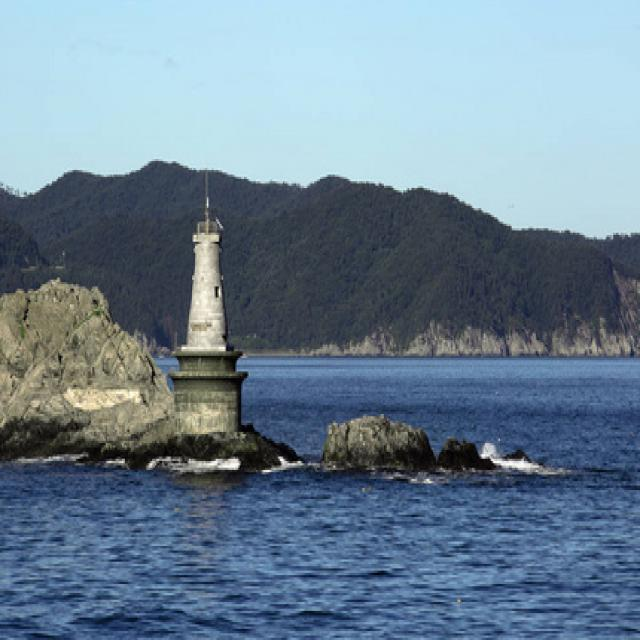island: (0, 134, 639, 376)
